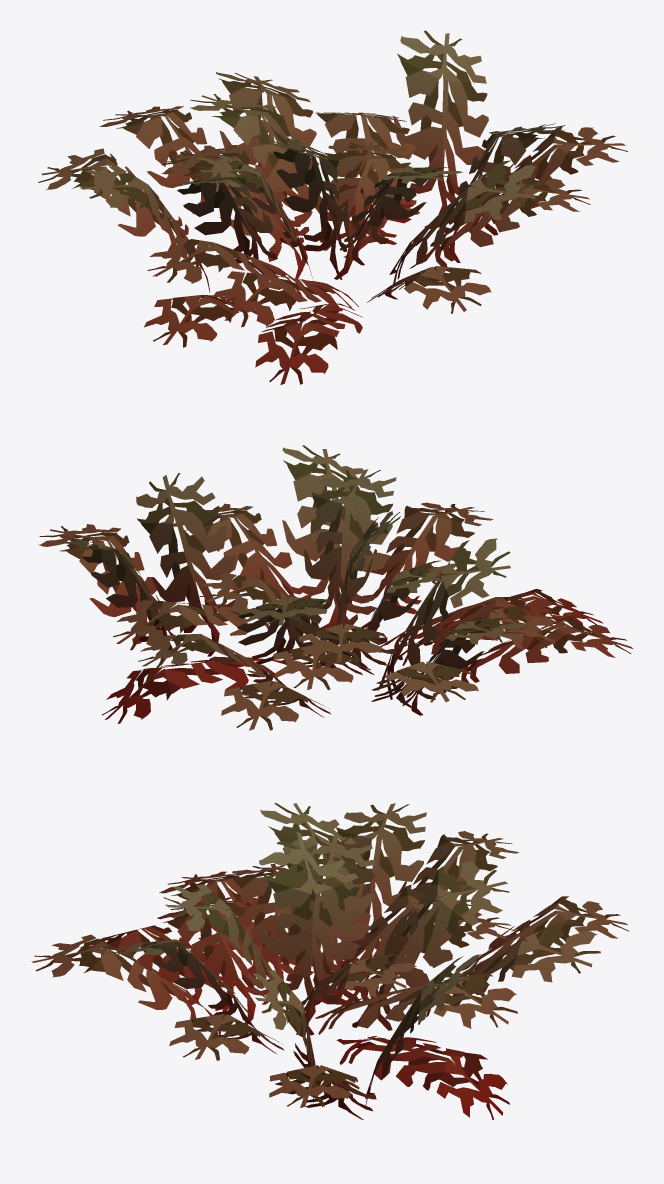
The model's file is synty-plant-undergrowth-01.gltf.
The picture shows the model from 3 angles, top to bottom: view 1: azimuth 30°, elevation 25°; view 2: azimuth 150°, elevation 25°; view 3: azimuth 270°, elevation 25°; orthographic projection. The views are drawn at different scales.
Parts seen in each view (by area): view 1: SM_Plant_Undergrowth_01; view 2: SM_Plant_Undergrowth_01; view 3: SM_Plant_Undergrowth_01.
Boxes of the visible parts, x1,y1,x2,y2 form: SM_Plant_Undergrowth_01: (38, 30, 627, 384); SM_Plant_Undergrowth_01: (38, 445, 633, 730); SM_Plant_Undergrowth_01: (31, 803, 628, 1119).
Size of the model in its own units: 1.35 by 0.4778 by 1.26.
Materials: 1 (1 with a texture image).
